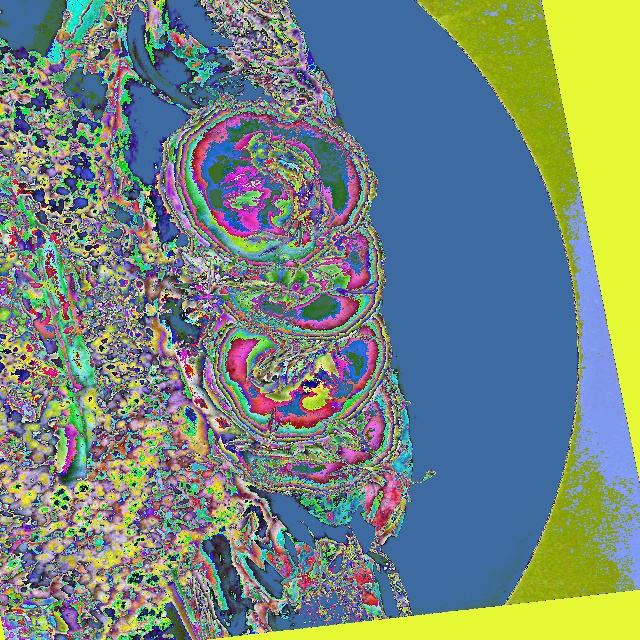background: (0, 0, 417, 640), (0, 7, 4, 15)
